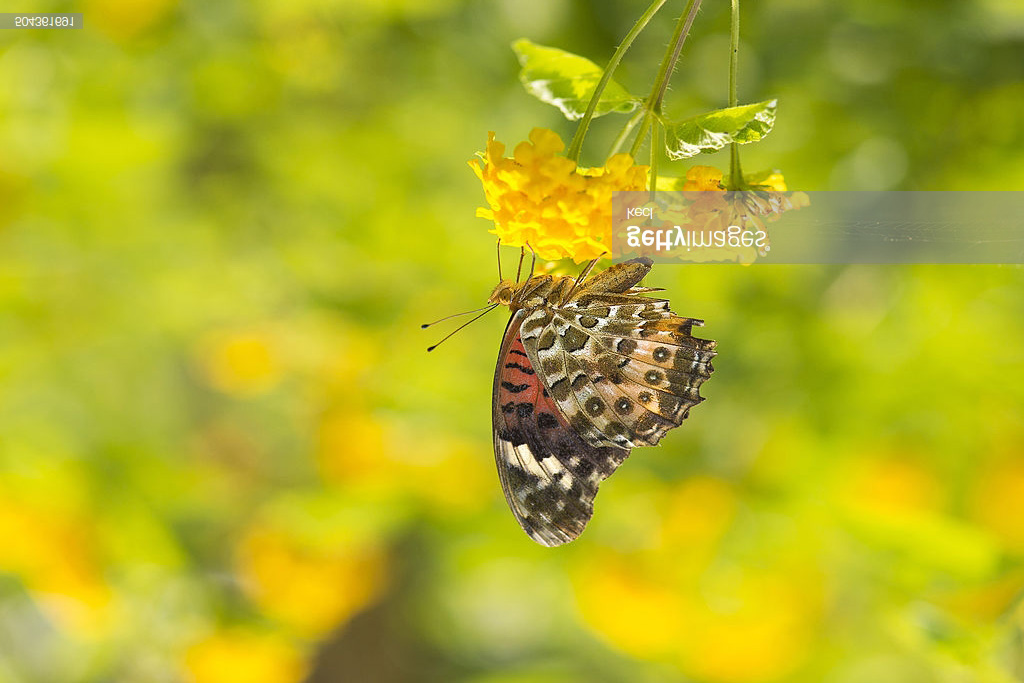Argyreus hyperbius: (409, 220, 722, 554)
butterfly: (411, 222, 724, 556)
